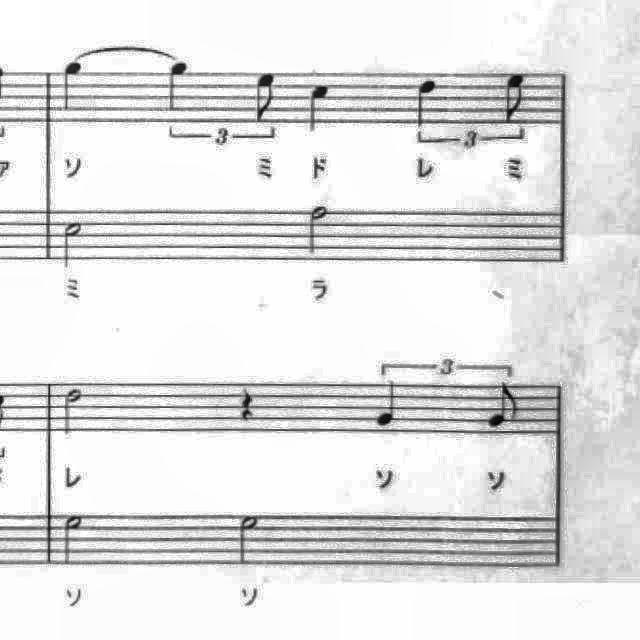Eighth-note: (247, 67, 285, 129), (482, 380, 524, 436), (497, 66, 535, 126)
Half-note: (300, 200, 336, 264), (58, 508, 90, 572), (57, 214, 91, 274), (232, 508, 266, 568), (58, 383, 88, 441)
Quarter-note: (300, 78, 338, 140), (56, 56, 92, 118), (369, 375, 407, 433), (162, 56, 196, 116), (409, 74, 443, 130)
Quarter-rest: (231, 382, 261, 428)
